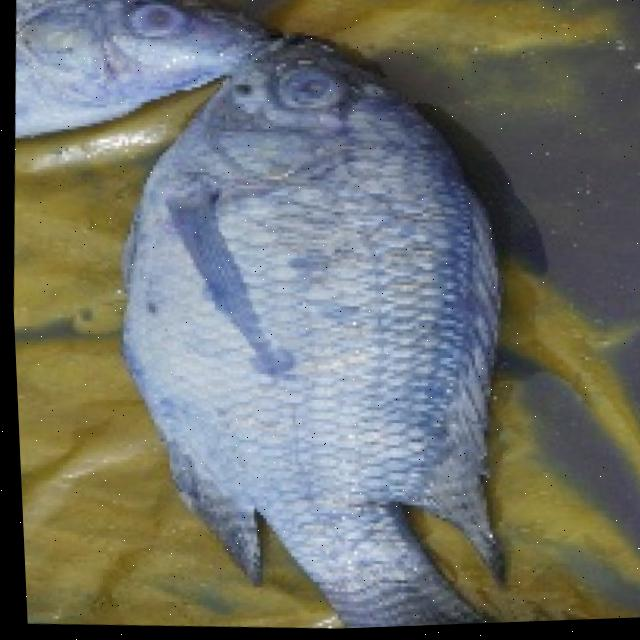Non-Fresh: (112, 45, 490, 482), (10, 0, 242, 130), (256, 60, 357, 138), (113, 0, 201, 47)
